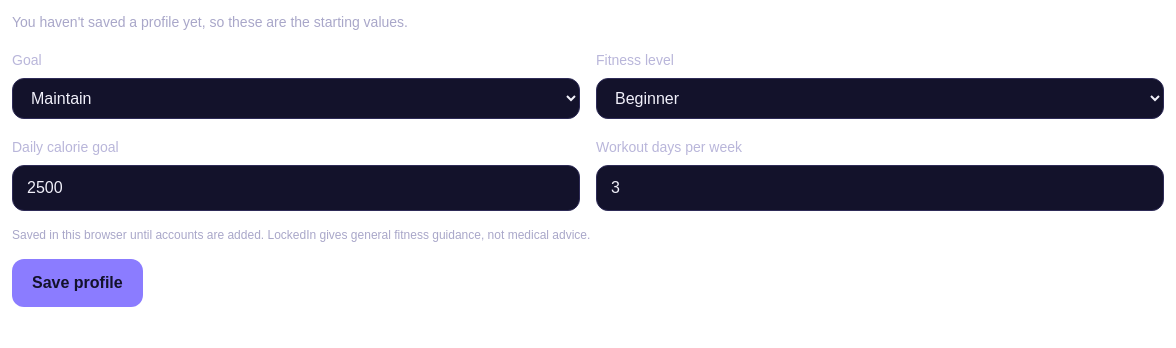
ProfileForm › hides the saved message once a field changes again
Click the button "Save profile" at (77, 283), box [12,259,143,307]
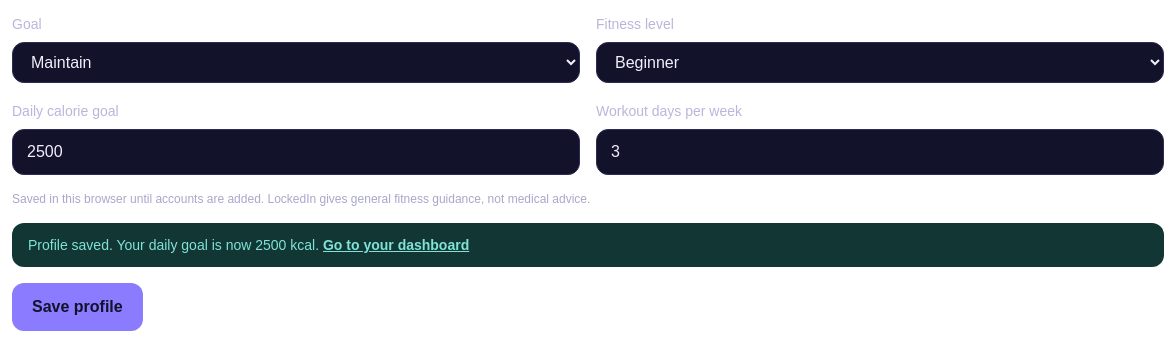
Expected: the message "Profile saved. Your daily goal is now 2500 kcal. Go to your dashboard" is shown, [12,223,1164,267]
Replace the text in the number field labelled "Daily calorie goal" with "2100" at (296, 152), box [12,129,580,175]
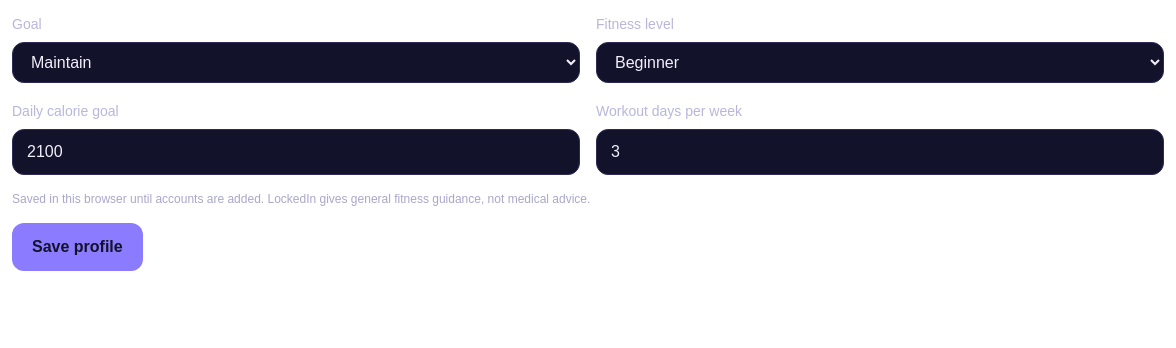
Expected: the message with test id "profile-saved" is gone
